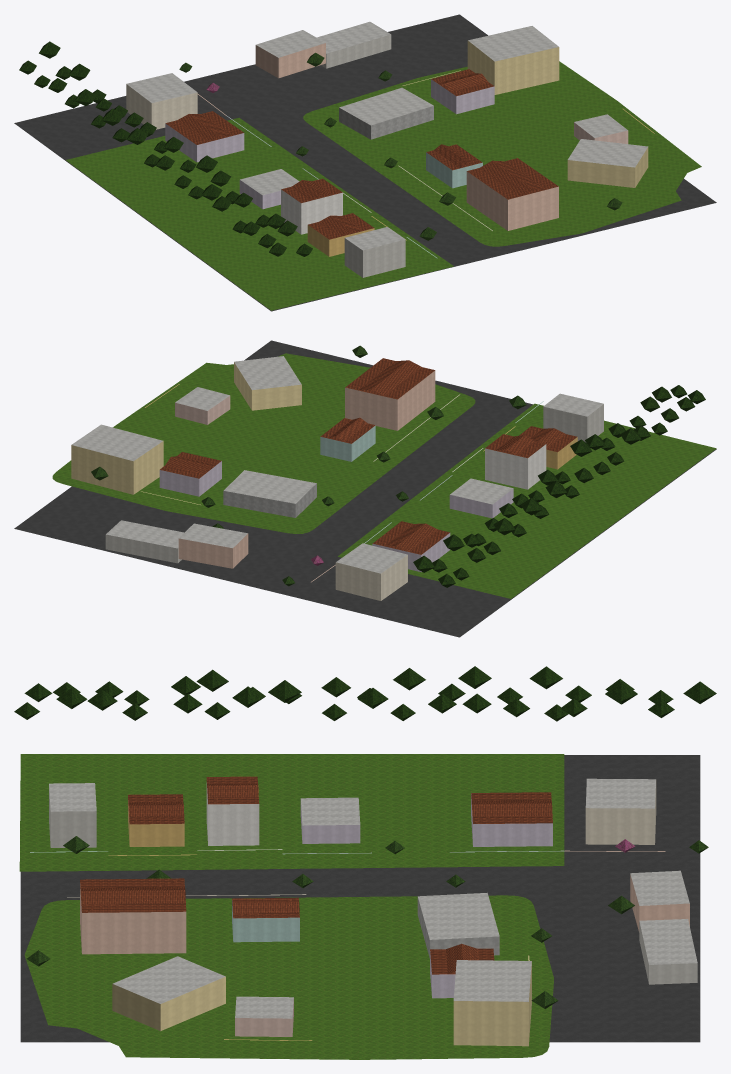
File: cidade_S00_06_lod.gltf
3 views of the same model, one above another, from view 1: azimuth 30°, elevation 25°; view 2: azimuth 150°, elevation 25°; view 3: azimuth 270°, elevation 25° (orthographic). The views are drawn at different scales.
Visible parts, largest first — view 1: S00_06_Chao_LOD2, S00_06_Edificios_LOD1, S00_06_Silhueta_LOD2, S00_06_Vegetacao_LOD2; view 2: S00_06_Chao_LOD2, S00_06_Edificios_LOD1, S00_06_Silhueta_LOD2, S00_06_Vegetacao_LOD2; view 3: S00_06_Chao_LOD2, S00_06_Edificios_LOD1, S00_06_Silhueta_LOD2, S00_06_Vegetacao_LOD2.
Boxes of the visible parts, <box> form: S00_06_Chao_LOD2: <box>14,14,716,311</box>; S00_06_Edificios_LOD1: <box>126,21,654,277</box>; S00_06_Silhueta_LOD2: <box>165,69,558,256</box>; S00_06_Vegetacao_LOD2: <box>19,41,622,256</box>; S00_06_Chao_LOD2: <box>14,340,716,637</box>; S00_06_Edificios_LOD1: <box>71,356,603,600</box>; S00_06_Silhueta_LOD2: <box>159,358,577,572</box>; S00_06_Vegetacao_LOD2: <box>91,345,705,587</box>; S00_06_Chao_LOD2: <box>19,754,700,1059</box>; S00_06_Edificios_LOD1: <box>30,778,697,1046</box>; S00_06_Silhueta_LOD2: <box>80,776,552,998</box>; S00_06_Vegetacao_LOD2: <box>14,666,716,1008</box>.
Size of the model in its own units: 107 by 15.94 by 103.
Materials: 17 (17 with a texture image).
